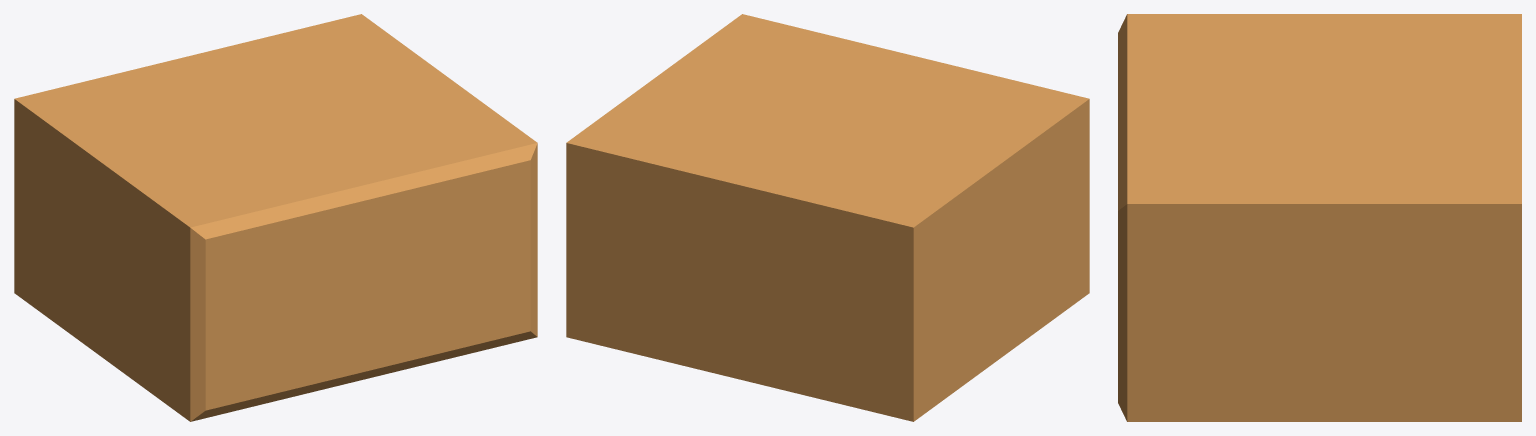
Rendered from ConnectorU.fbx.
3 views of the same model, side by side, from view 1: azimuth 30°, elevation 25°; view 2: azimuth 150°, elevation 25°; view 3: azimuth 270°, elevation 25° (orthographic). The views are drawn at different scales.
Parts seen in each view (by area): view 1: Normal Up Cupboard.007; view 2: Normal Up Cupboard.007; view 3: Normal Up Cupboard.007.
Boxes of the visible parts, x1=… form: Normal Up Cupboard.007: x1=14, y1=14, x2=537, y2=421; Normal Up Cupboard.007: x1=566, y1=14, x2=1089, y2=421; Normal Up Cupboard.007: x1=1118, y1=14, x2=1521, y2=421.
Bounding box in the file's own units: 126 × 114 × 67.56.
